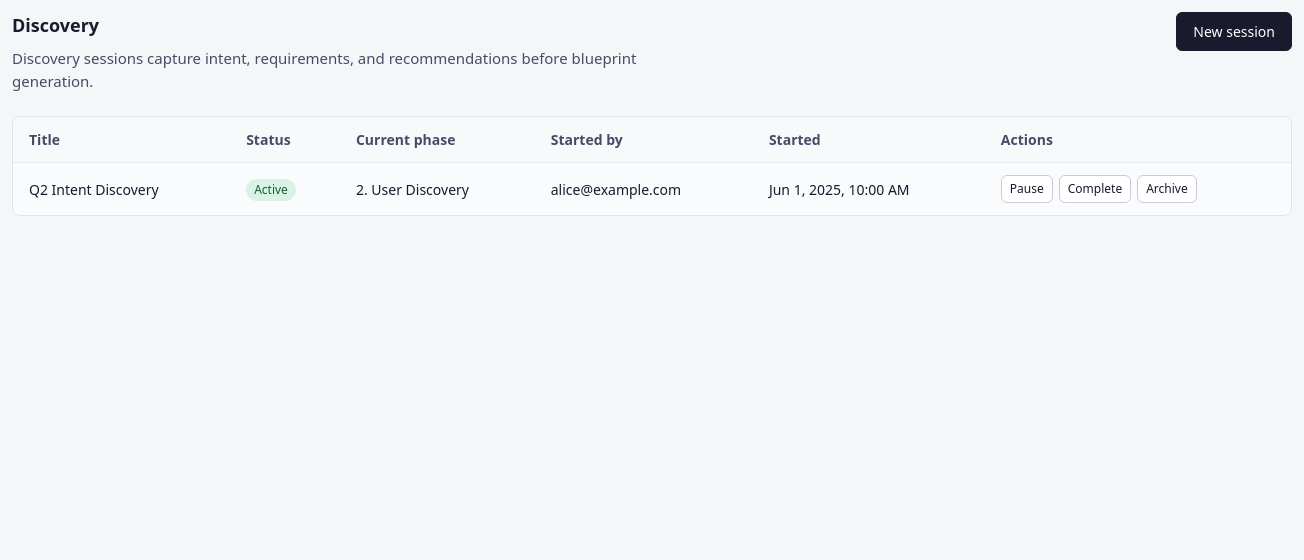
it: DiscoveryPage › shows New session panel when list has items
The width and height of the screenshot is (1304, 560).
Expected: the text "Q2 Intent Discovery" is shown, [13, 162, 230, 215]
Click the button "New session": x=1234, y=32 [1176, 12, 1292, 51]
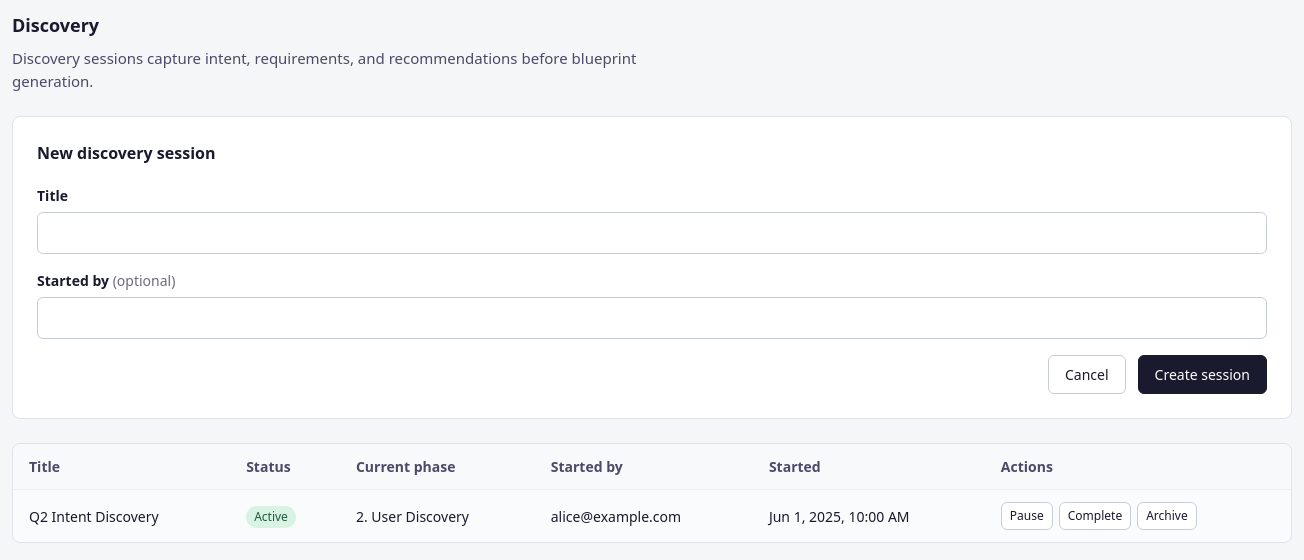
Expected: the heading "New discovery session" is shown, [37, 142, 216, 164]
